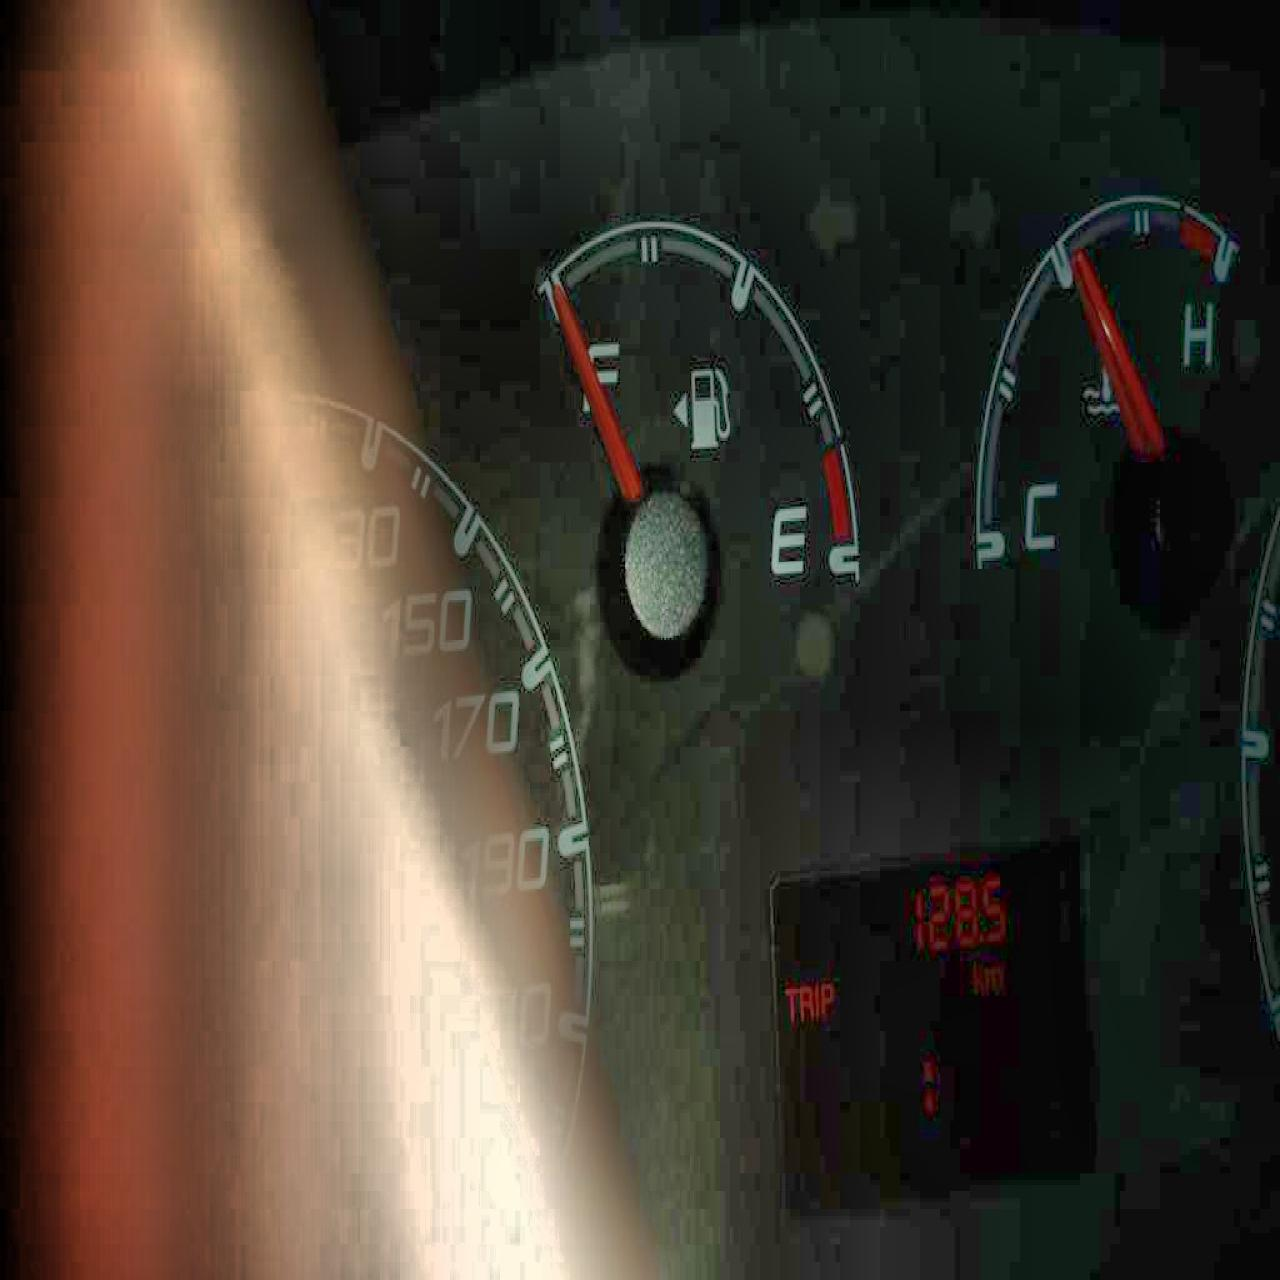-: (976, 929, 988, 944)
1: (911, 891, 924, 945)
2: (925, 882, 949, 951)
5: (981, 874, 1005, 942)
8: (952, 876, 978, 944)
X: (919, 1056, 936, 1111), (982, 962, 1002, 996), (782, 980, 798, 1022), (966, 956, 982, 996), (798, 982, 812, 1024), (820, 980, 832, 1022), (812, 984, 820, 1022)
odometer: (762, 824, 1106, 1218)
